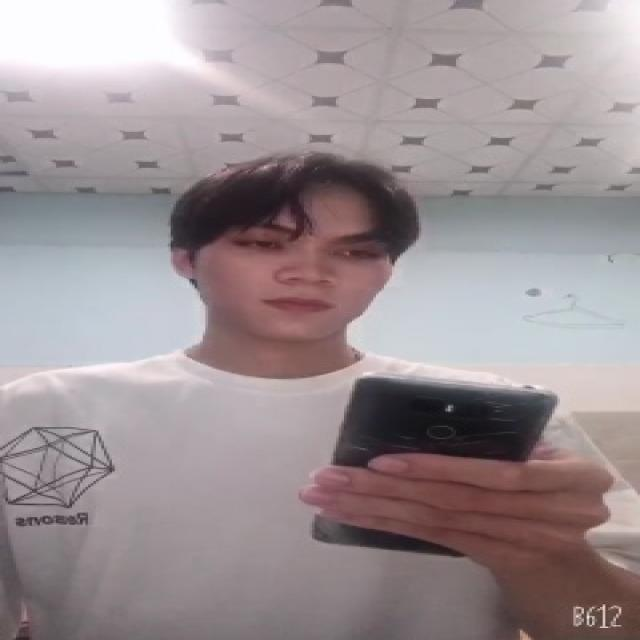Phone: (309, 374, 560, 558)
